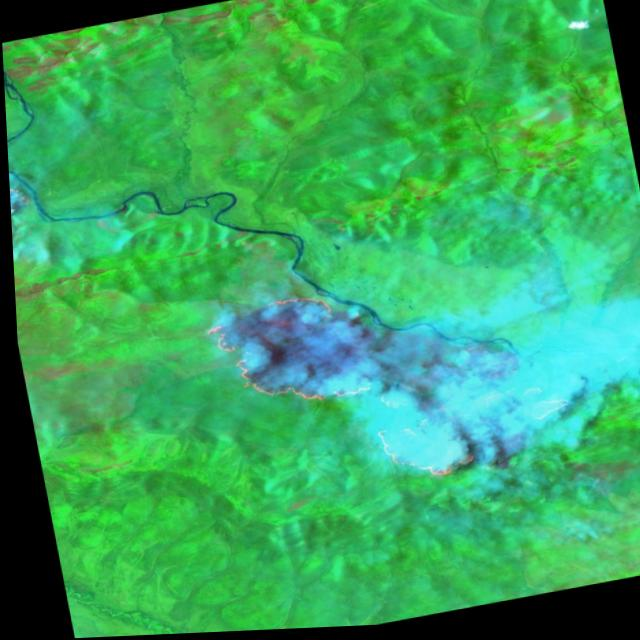fire: (194, 267, 480, 514)
